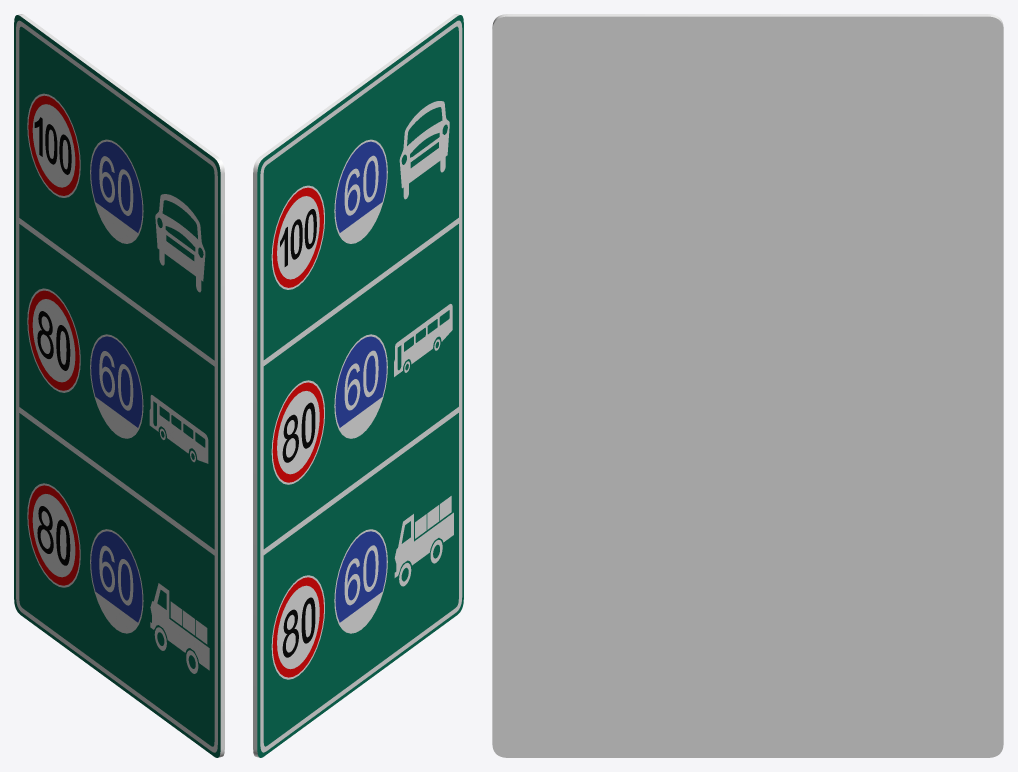
Rendered from Combined_Speed_Limit_Sign_1.fbx.
3 views of the same model, side by side, from view 1: azimuth 30°, elevation 25°; view 2: azimuth 150°, elevation 25°; view 3: azimuth 270°, elevation 25° (orthographic). The views are drawn at different scales.
Visible parts, largest first — view 1: Combined_Speed_Limit_Sign_1; view 2: Combined_Speed_Limit_Sign_1; view 3: Combined_Speed_Limit_Sign_1.
Part boxes in pixels (x1,y1,x2,y2): Combined_Speed_Limit_Sign_1: [14, 14, 224, 757]; Combined_Speed_Limit_Sign_1: [253, 14, 463, 757]; Combined_Speed_Limit_Sign_1: [492, 14, 1003, 757].
Size of the model in its own units: 0.0369 by 4 by 2.5.
